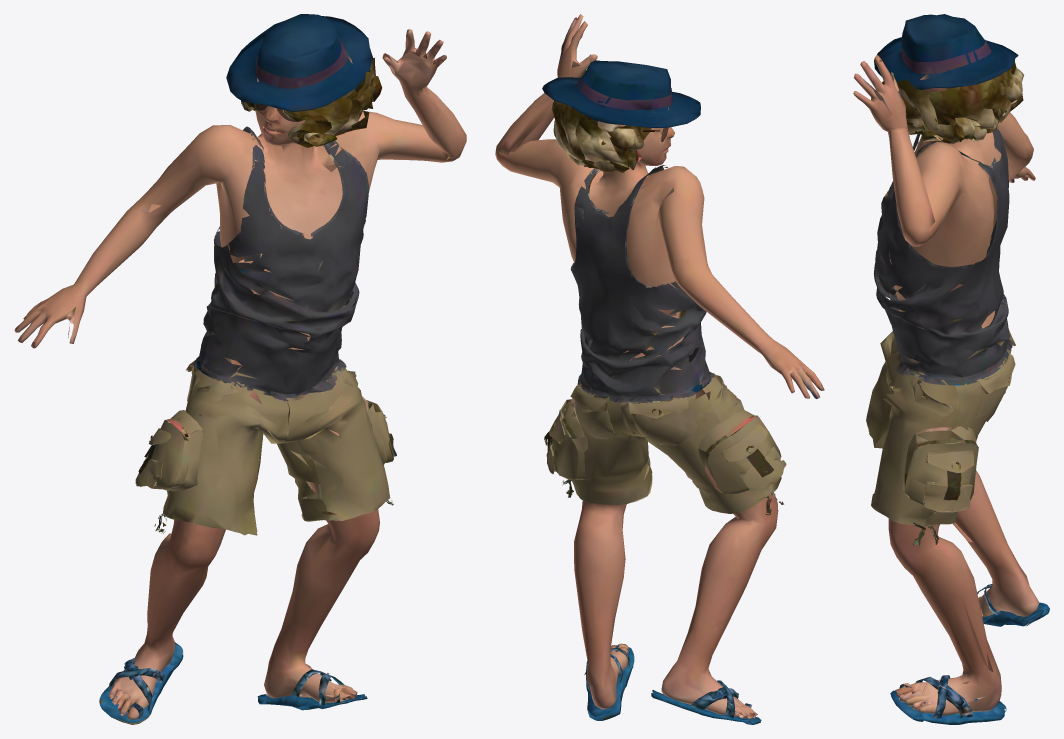
3 renders of one model, left to right at view 1: azimuth 30°, elevation 25°; view 2: azimuth 150°, elevation 25°; view 3: azimuth 270°, elevation 25°, orthographic. The views are drawn at different scales.
Visible parts, largest first — view 1: p02134; view 2: p02134; view 3: p02134.
Boxes of the visible parts, x1,y1,x2,y2 form: p02134: (14, 14, 466, 724); p02134: (495, 14, 824, 724); p02134: (853, 14, 1049, 724).
Size of the model in its own units: 0.9501 by 1.58 by 0.4053.
Materials: 1 (1 with a texture image).
